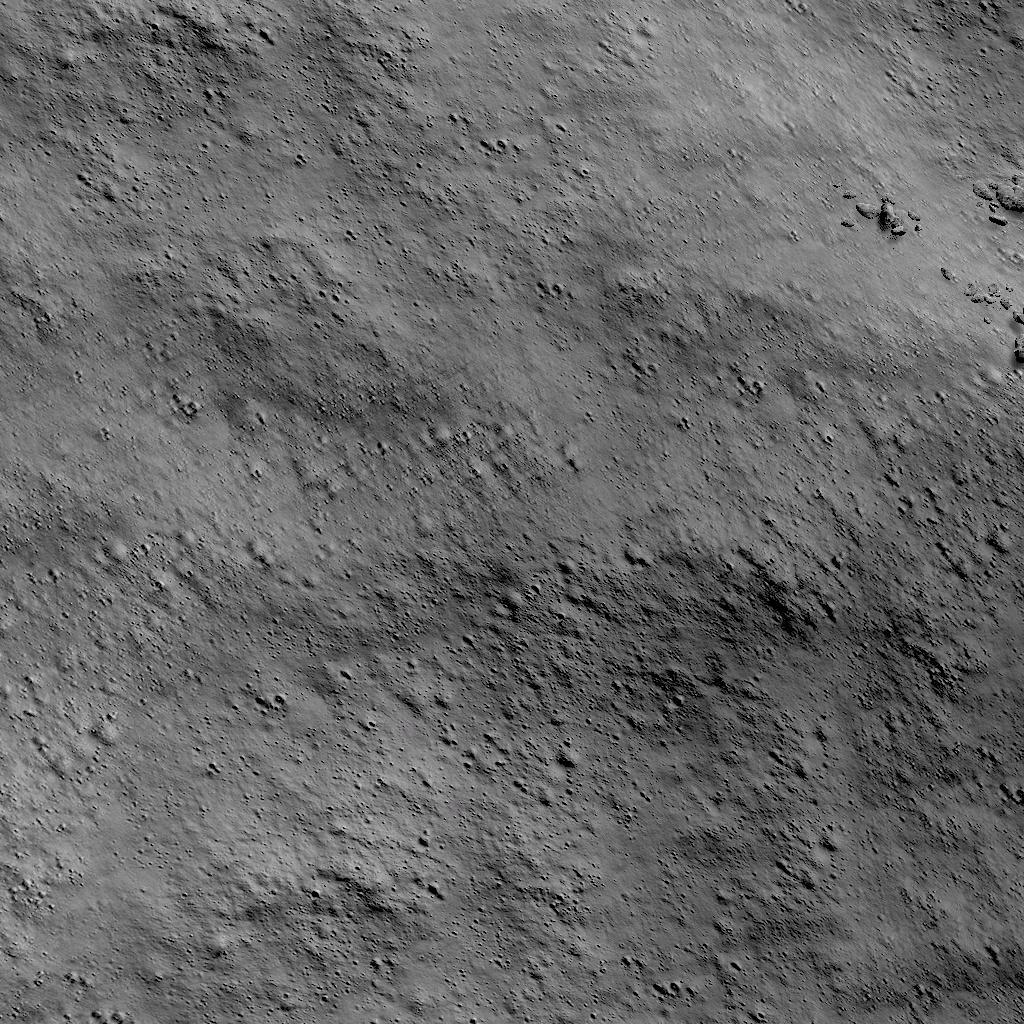Plan surface: (7, 430, 1024, 1024), (0, 8, 776, 405), (797, 0, 1024, 183)
